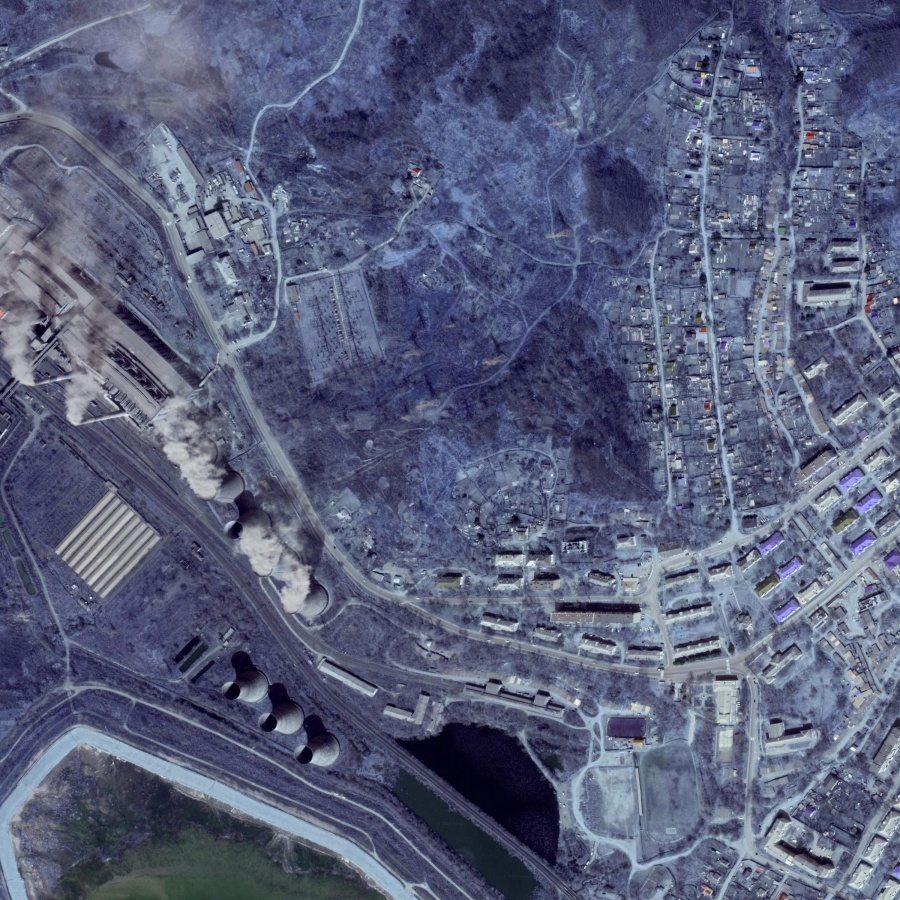PowerPlant: (160, 406, 374, 779)
